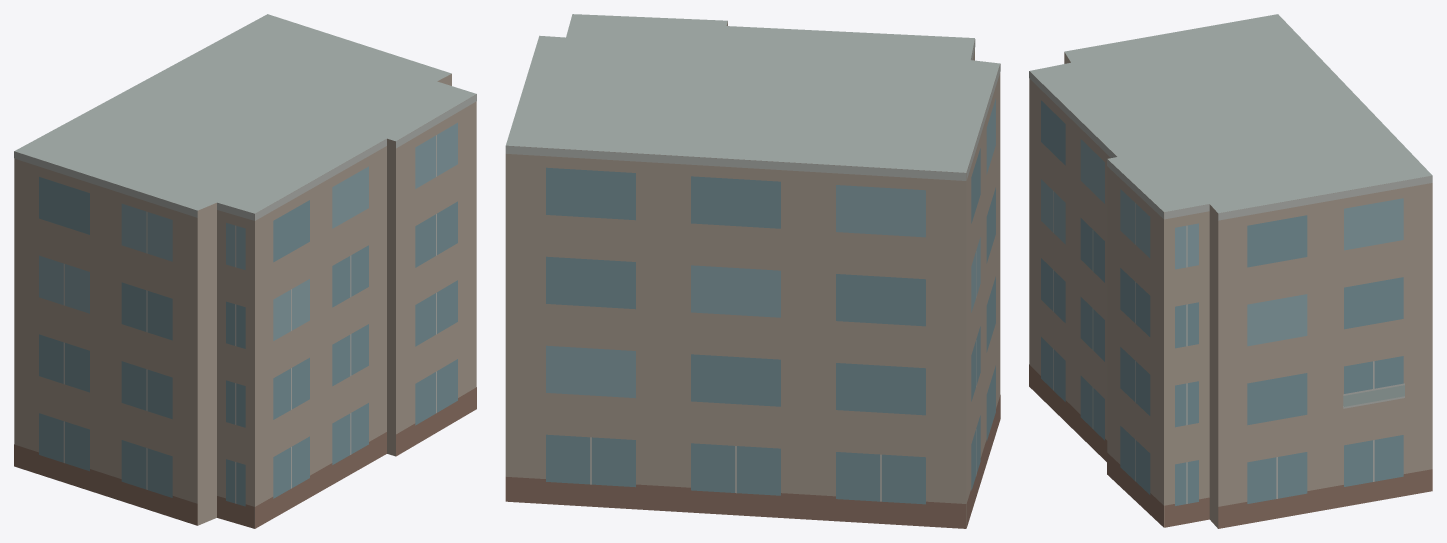
File: survey-upis-32850719.glb
3 renders of one model, left to right at view 1: azimuth 30°, elevation 25°; view 2: azimuth 150°, elevation 25°; view 3: azimuth 270°, elevation 25°, orthographic. The views are drawn at different scales.
Visible parts, largest first — view 1: survey-upis-32850719.tmp; view 2: survey-upis-32850719.tmp; view 3: survey-upis-32850719.tmp.
Boxes of the visible parts, left/top/right/bottom form: survey-upis-32850719.tmp: left=14, top=14, right=476, bottom=528; survey-upis-32850719.tmp: left=505, top=14, right=1000, bottom=528; survey-upis-32850719.tmp: left=1029, top=14, right=1432, bottom=528.
Bounding box in the file's own units: 14.37 × 10.6 × 12.29.
